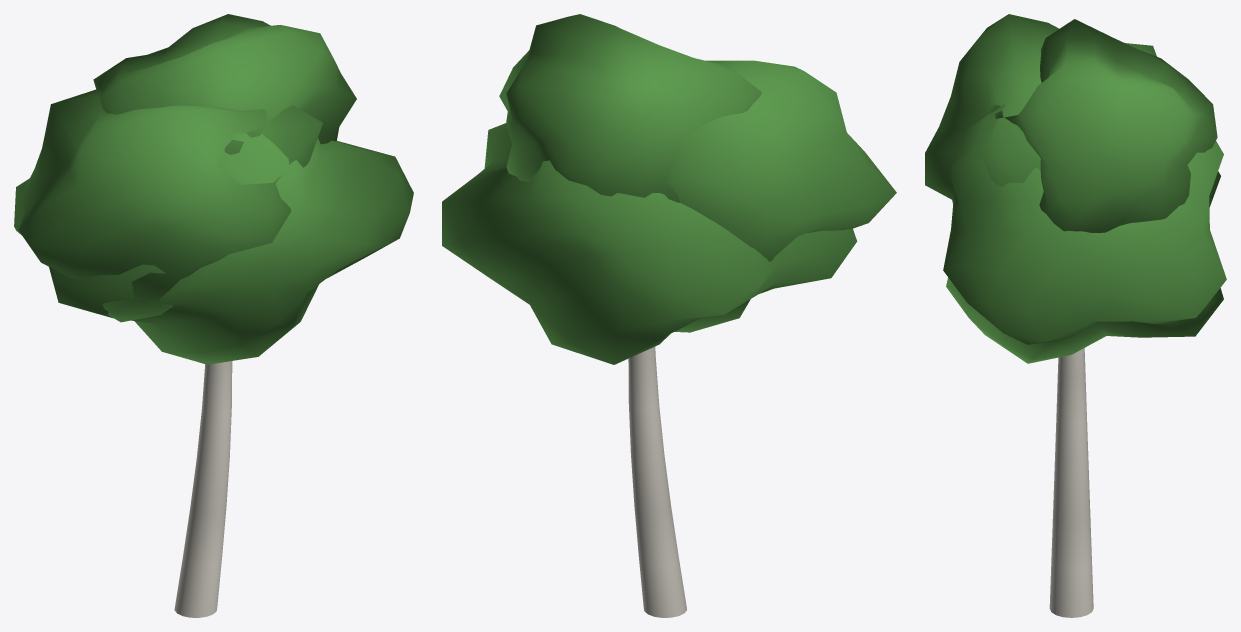
File: birch_tree.glb
3 views of the same model, side by side, from view 1: azimuth 30°, elevation 25°; view 2: azimuth 150°, elevation 25°; view 3: azimuth 270°, elevation 25° (orthographic).
Parts seen in each view (by area): view 1: BirchFoliage, BirchTrunk; view 2: BirchFoliage, BirchTrunk; view 3: BirchFoliage, BirchTrunk.
Part boxes in pixels (x1,y1,x2,y2): BirchFoliage: (14, 14, 413, 364); BirchTrunk: (174, 361, 232, 617); BirchFoliage: (442, 14, 896, 364); BirchTrunk: (628, 346, 686, 617); BirchFoliage: (925, 14, 1226, 363); BirchTrunk: (1049, 348, 1093, 617).
Bounding box in the file's own units: 5.86 × 8.01 × 3.84.
